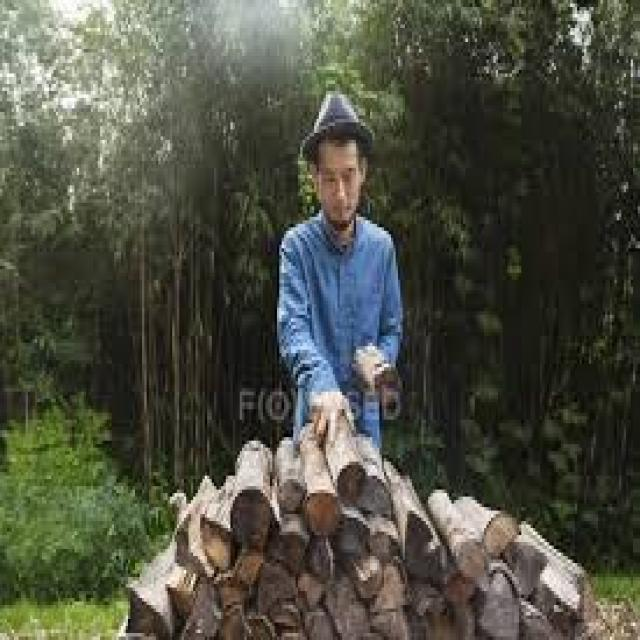hat: (300, 91, 375, 227)
